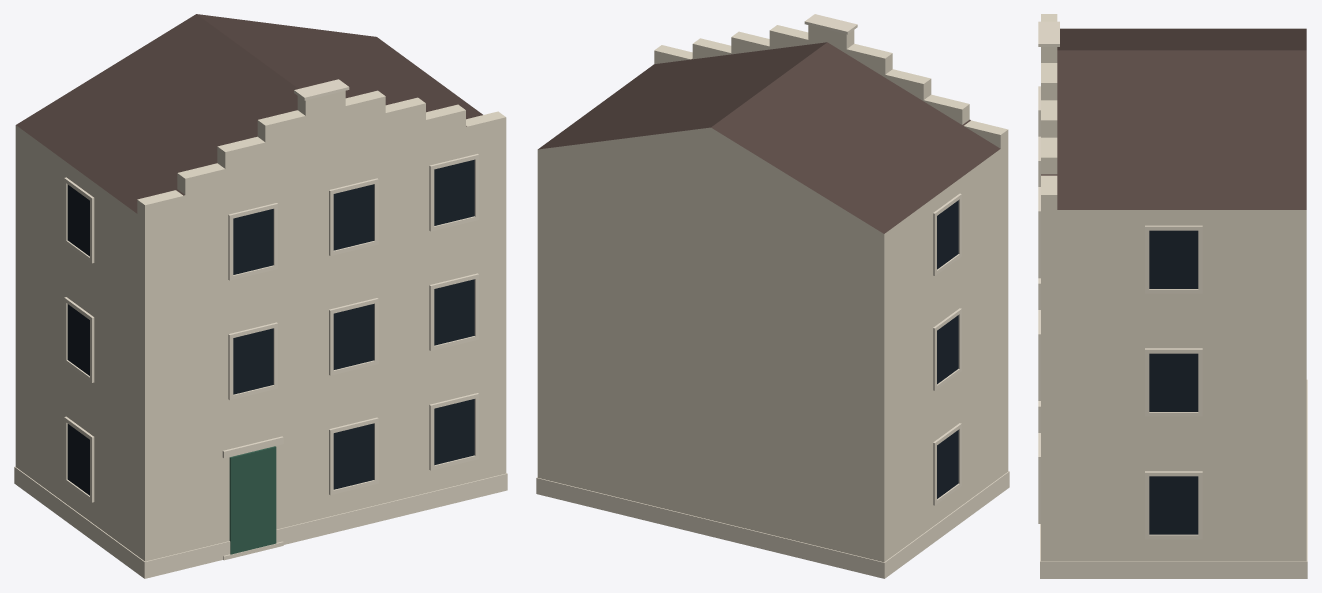
Rendered from render-stepped.glb.
The picture shows the model from 3 angles, left to right: view 1: azimuth 30°, elevation 25°; view 2: azimuth 150°, elevation 25°; view 3: azimuth 270°, elevation 25°; orthographic projection. The views are drawn at different scales.
Visible parts, largest first — view 1: Render, Roof, Window, Trim, Door; view 2: Render, Roof, Trim, Window; view 3: Render, Roof, Trim, Window.
Part boxes in pixels (<box>): Render: <box>15,90,506,561</box>; Roof: <box>16,14,482,213</box>; Window: <box>67,159,474,495</box>; Trim: <box>14,79,507,578</box>; Door: <box>229,446,276,554</box>; Render: <box>537,25,1008,562</box>; Roof: <box>538,42,1000,233</box>; Trim: <box>536,14,1009,578</box>; Window: <box>937,200,958,498</box>; Render: <box>1041,14,1306,561</box>; Roof: <box>1041,28,1306,209</box>; Trim: <box>1038,21,1307,578</box>; Window: <box>1149,230,1198,534</box>.
Size of the model in its own units: 8 by 9.26 by 4.97.
